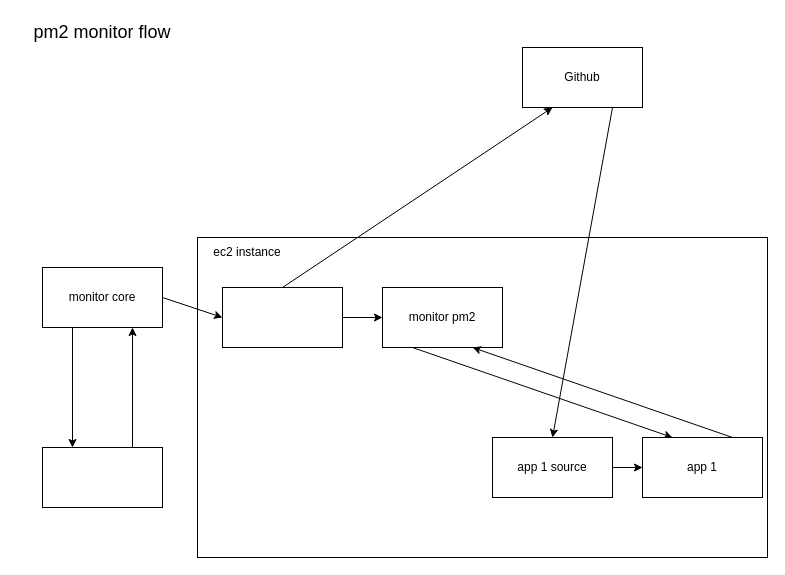
Some shapes in this 785 by 575 pixel diagram are drawn without their labels. The shapes that lost their labels are listed below. From the top down, each one's centre as x and y in pixels, then its label:
At point 282,317: "monitor periphery".
At point 102,477: "monitor frontend".
